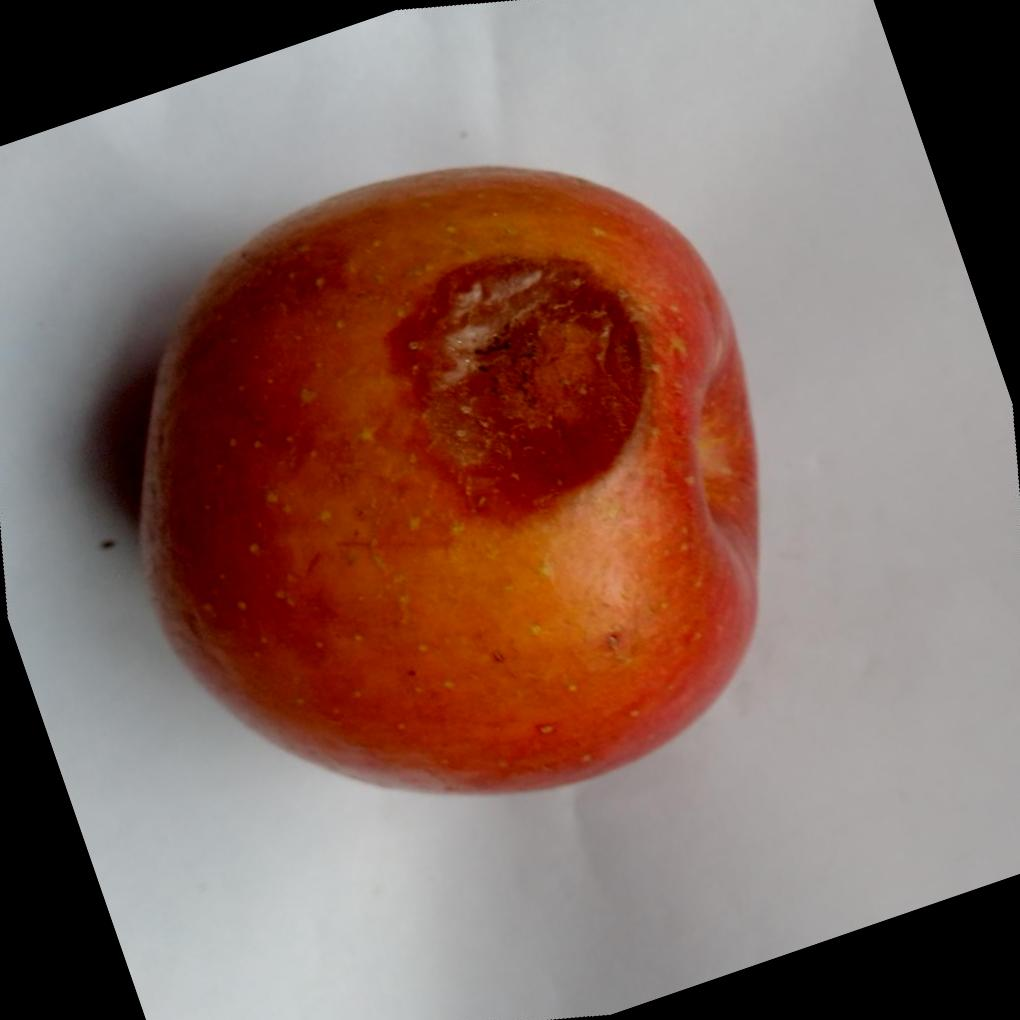FreshOrange: (137, 166, 764, 801)
